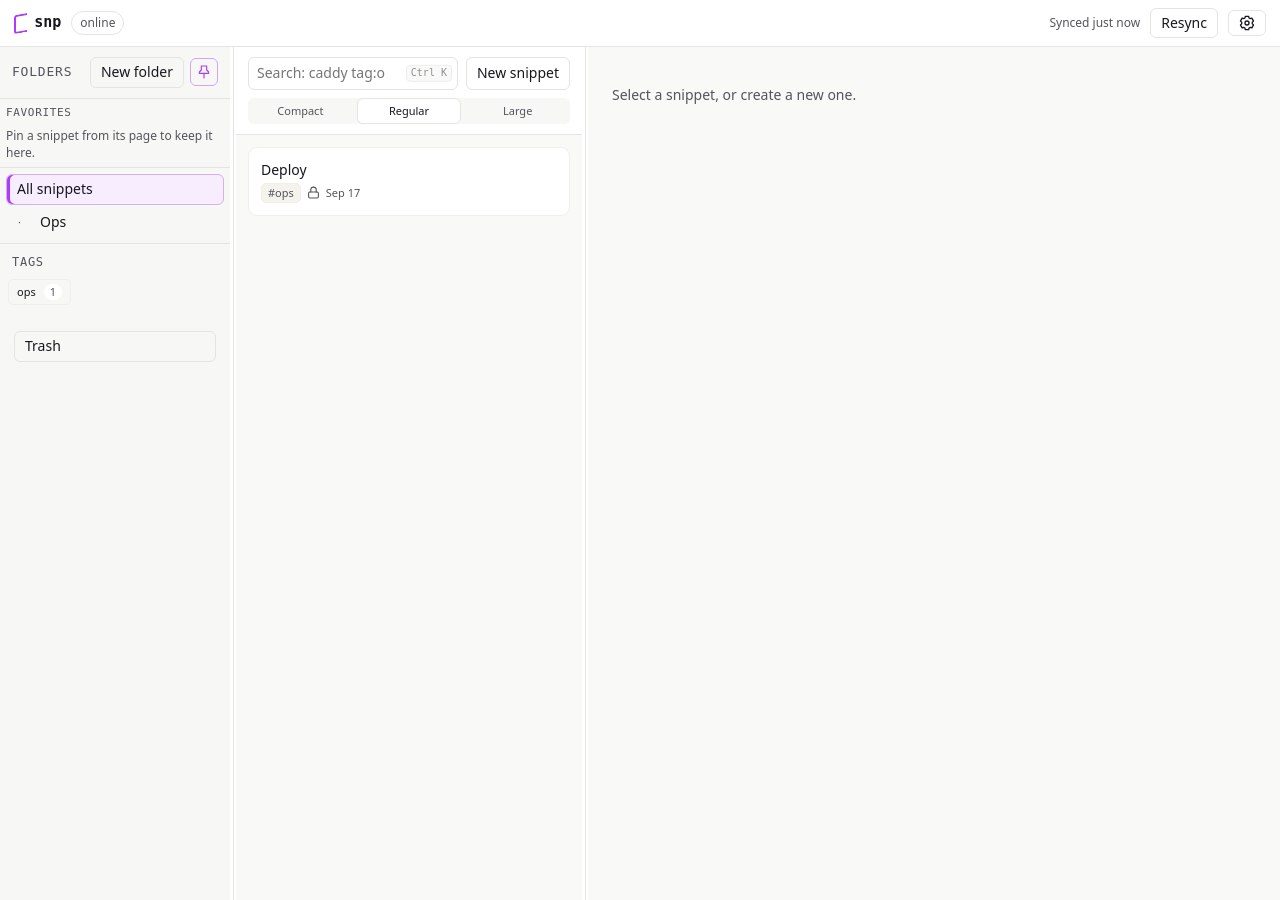
it: draft protection and dialogs › contains dialog focus, makes the background inert, and restores the opener
The image size is (1280, 900).
Click the text "Deploy": {"x": 284, "y": 170} [261,160,307,180]
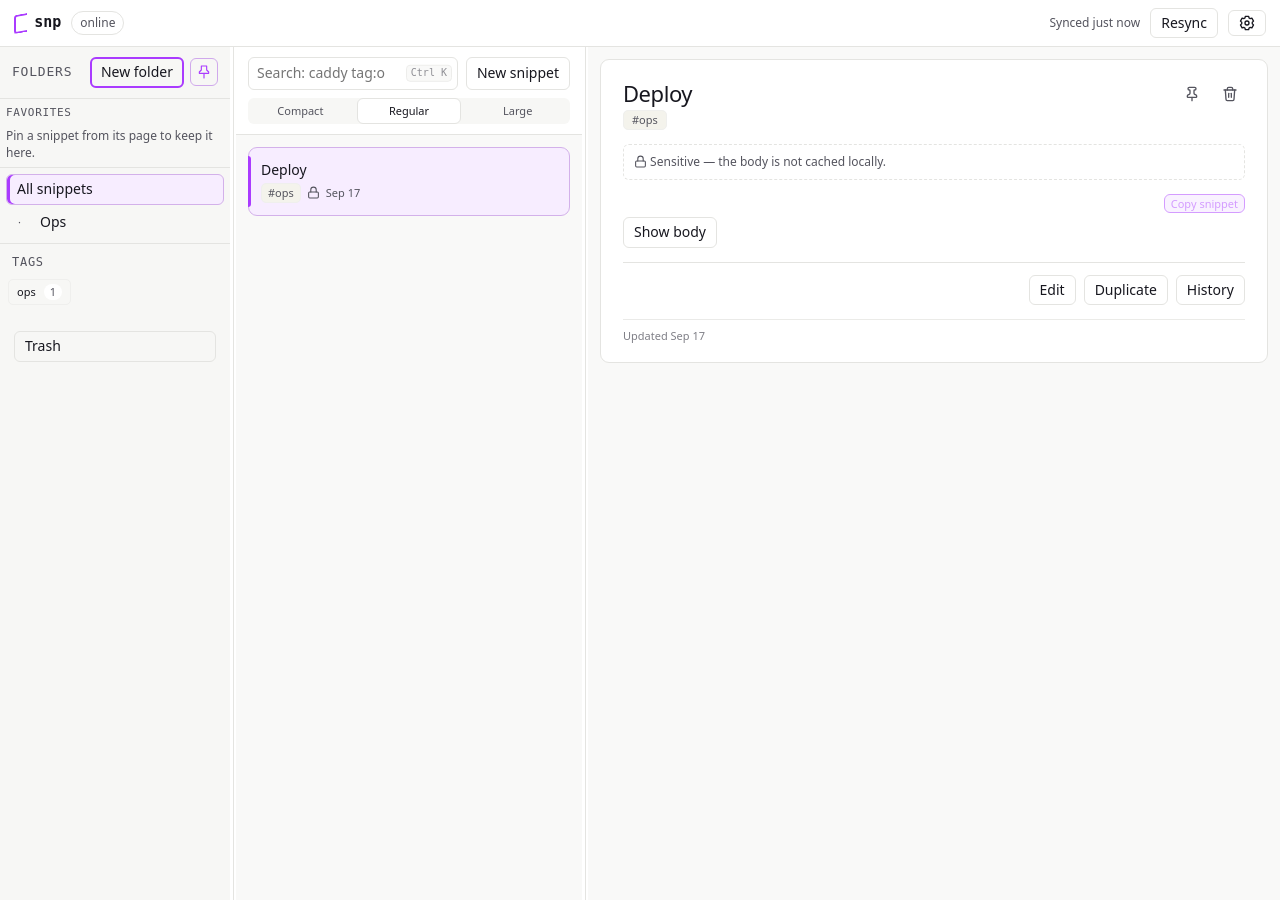
Click the button "New folder": {"x": 137, "y": 72} [90,57,184,88]
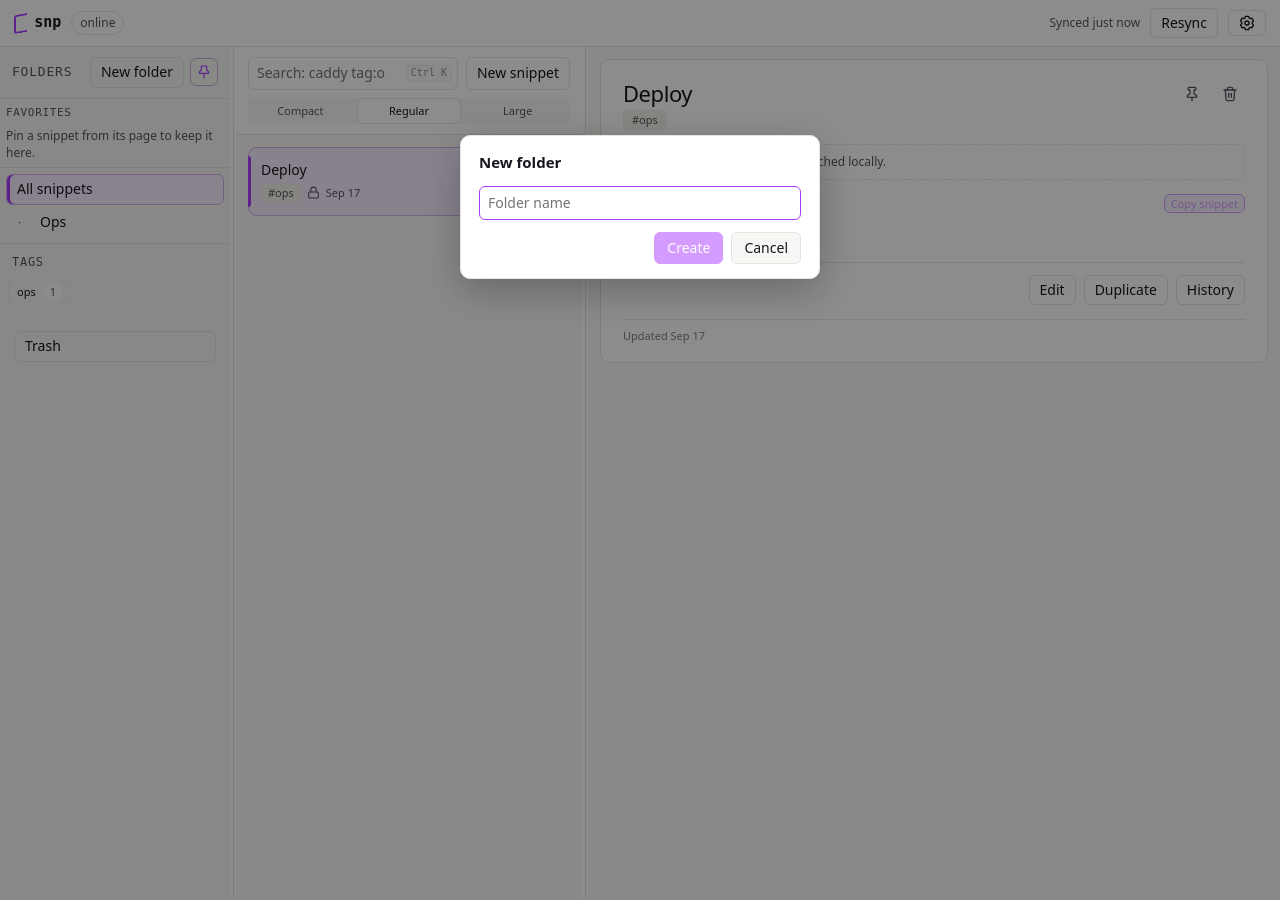
Press Tab in the field labelled "Folder name", box [479,186,801,220]
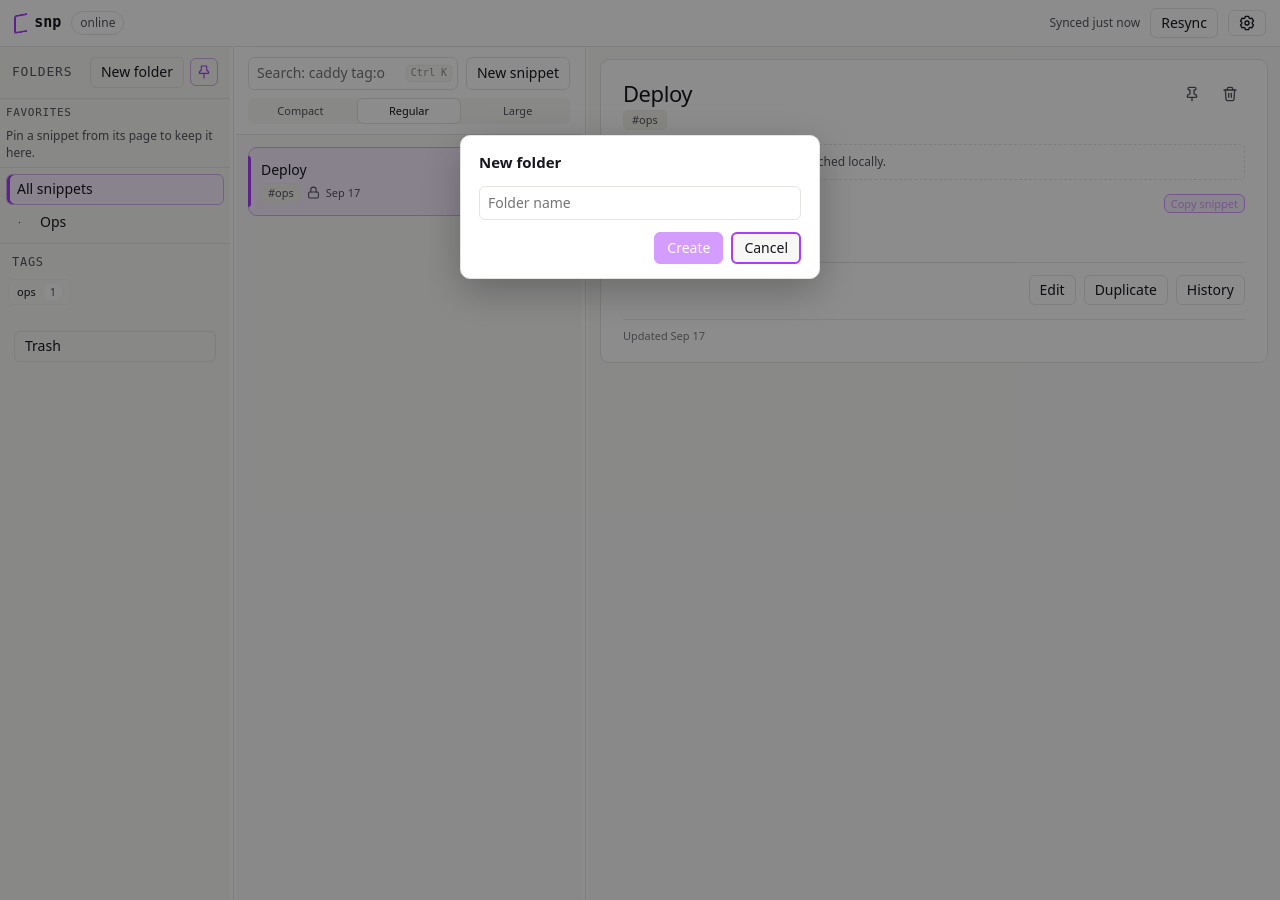
Press Tab in the button "Cancel", box [731,232,801,264]
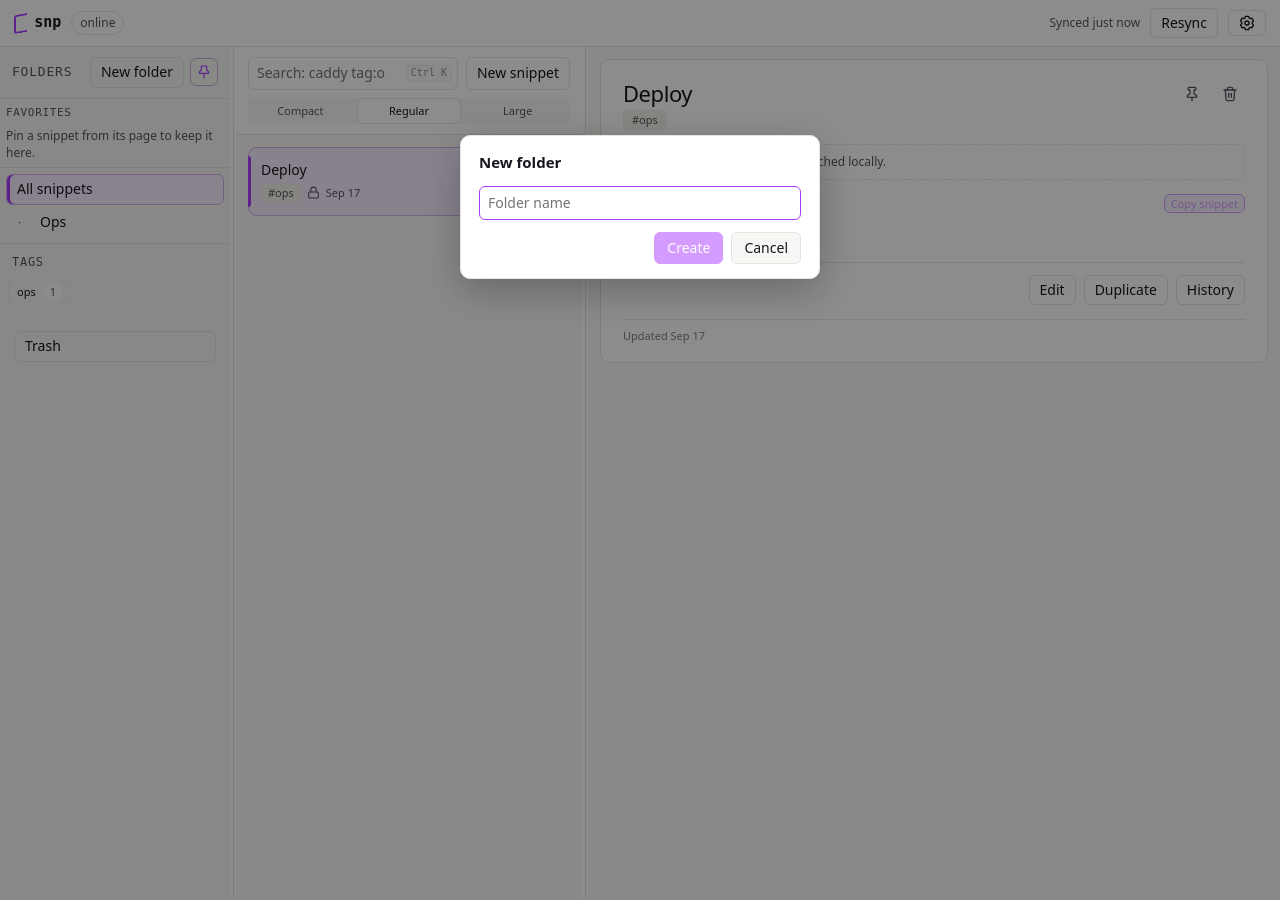
Press Escape in the field labelled "Folder name", box [479,186,801,220]
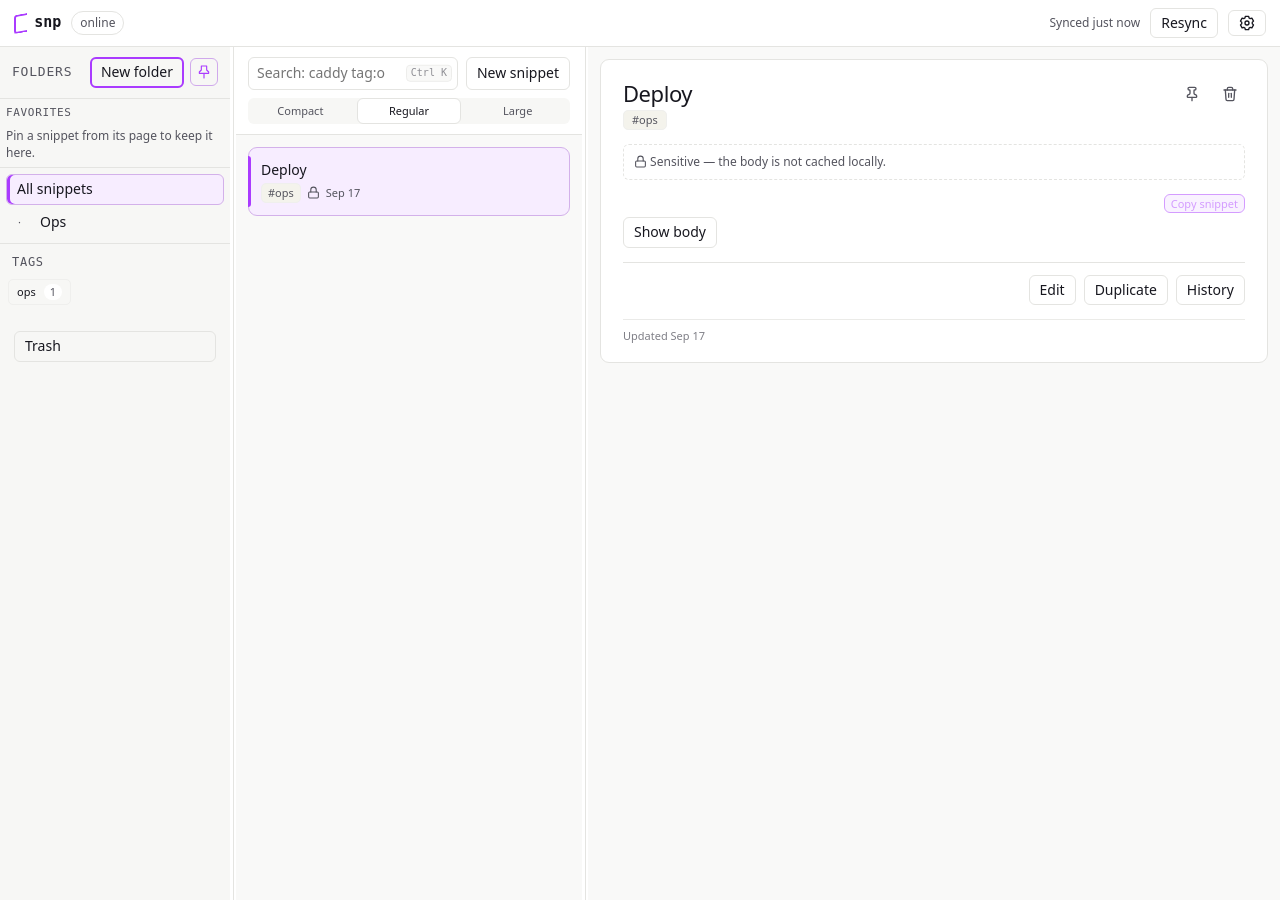
Now the dialog is gone
